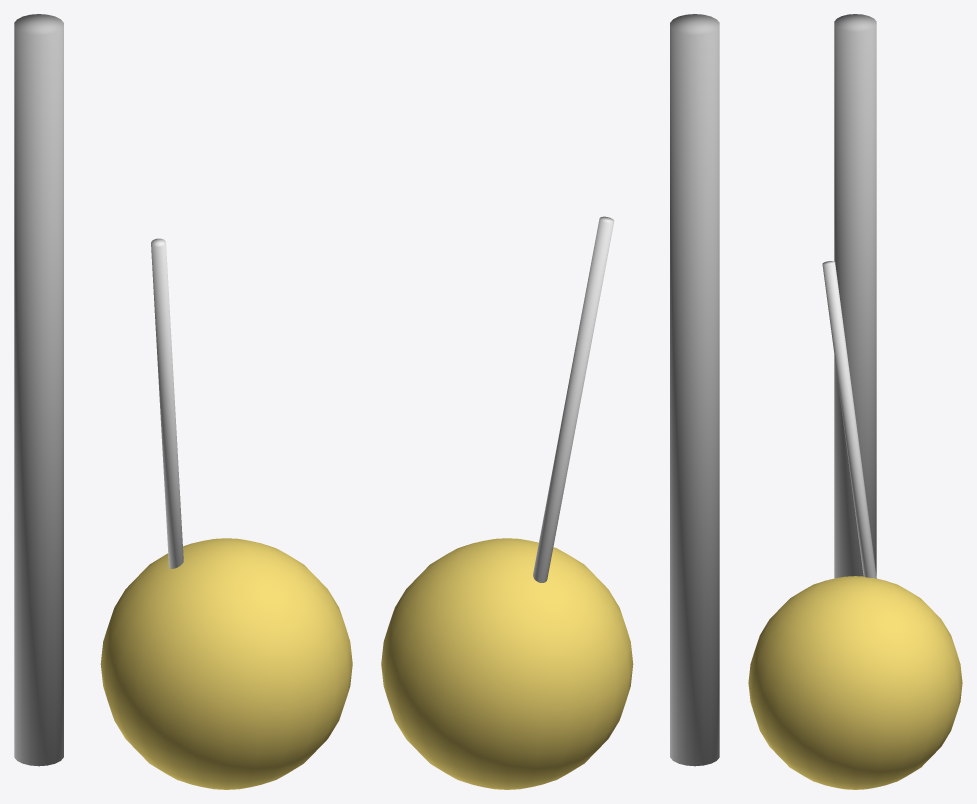
File: pendulum.glb
3 views of the same model, side by side, from view 1: azimuth 30°, elevation 25°; view 2: azimuth 150°, elevation 25°; view 3: azimuth 270°, elevation 25° (orthographic). The views are drawn at different scales.
Visible parts, largest first — view 1: bob, stand, wire; view 2: bob, stand, wire; view 3: bob, stand, wire.
Boxes of the visible parts, x1,y1,x2,y2 form: bob: [100, 538, 352, 789]; stand: [14, 14, 63, 766]; wire: [151, 238, 183, 568]; bob: [381, 538, 633, 789]; stand: [670, 14, 719, 766]; wire: [533, 216, 614, 582]; bob: [748, 576, 962, 789]; stand: [834, 14, 876, 578]; wire: [822, 261, 876, 578].
Size of the model in its own units: 0.73 by 1.75 by 0.5.
